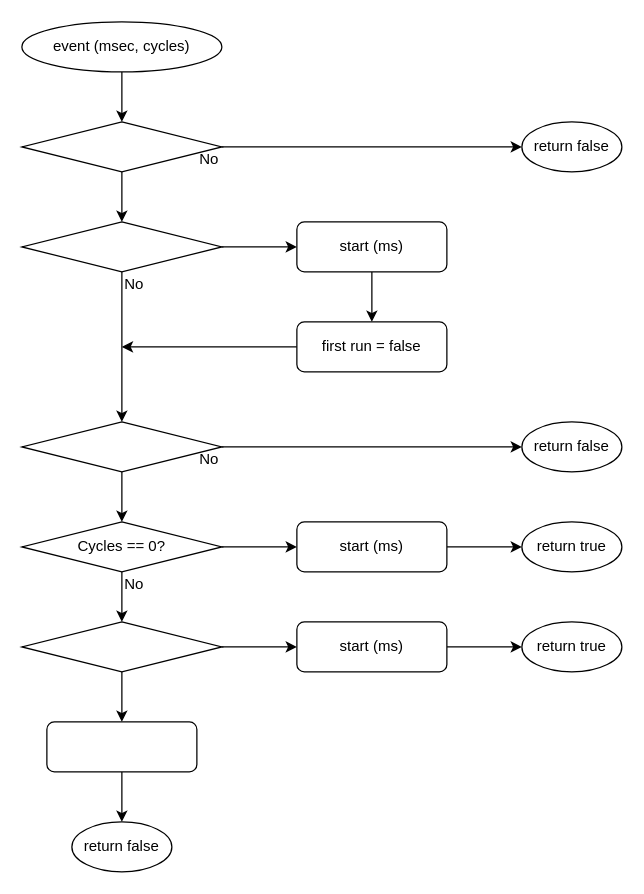
The diagram is 644 pixels wide and 894 high, and some of its shapes have lost their labels. Each missing label, with the box of its shape:
cycles > counter?: (21, 621, 222, 672)
enabled = false: (46, 721, 197, 772)
enabled?: (21, 121, 222, 172)
first run?: (21, 221, 222, 272)
timed out?: (21, 421, 222, 472)
